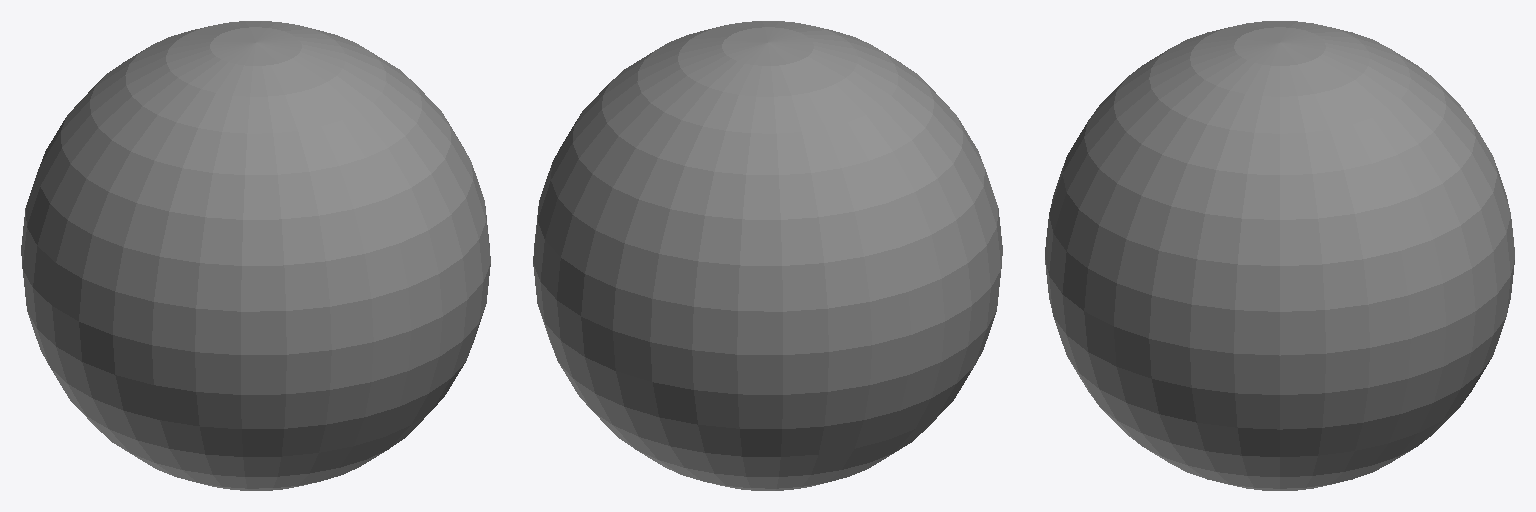
The model's file is tardis.obj.
The picture shows the model from 3 angles: view 1: azimuth 30°, elevation 25°; view 2: azimuth 150°, elevation 25°; view 3: azimuth 270°, elevation 25°; orthographic projection.
Visible parts, largest first — view 1: Sphere001; view 2: Sphere001; view 3: Sphere001.
Part boxes in pixels (bbox=[...]): Sphere001: bbox=[21, 21, 490, 490]; Sphere001: bbox=[533, 21, 1002, 490]; Sphere001: bbox=[1045, 21, 1514, 490].
Bounding box in the file's own units: 8003 × 8003 × 8003.